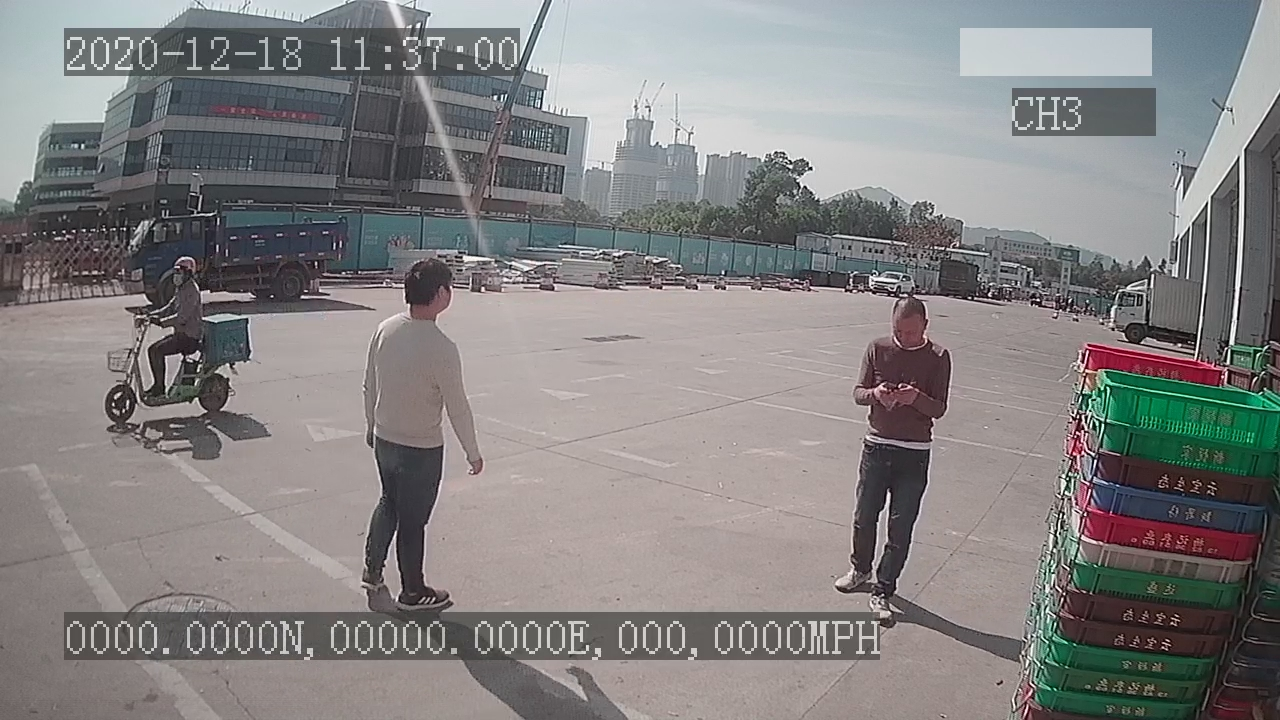person: (355, 258, 488, 612), (835, 293, 951, 611)
